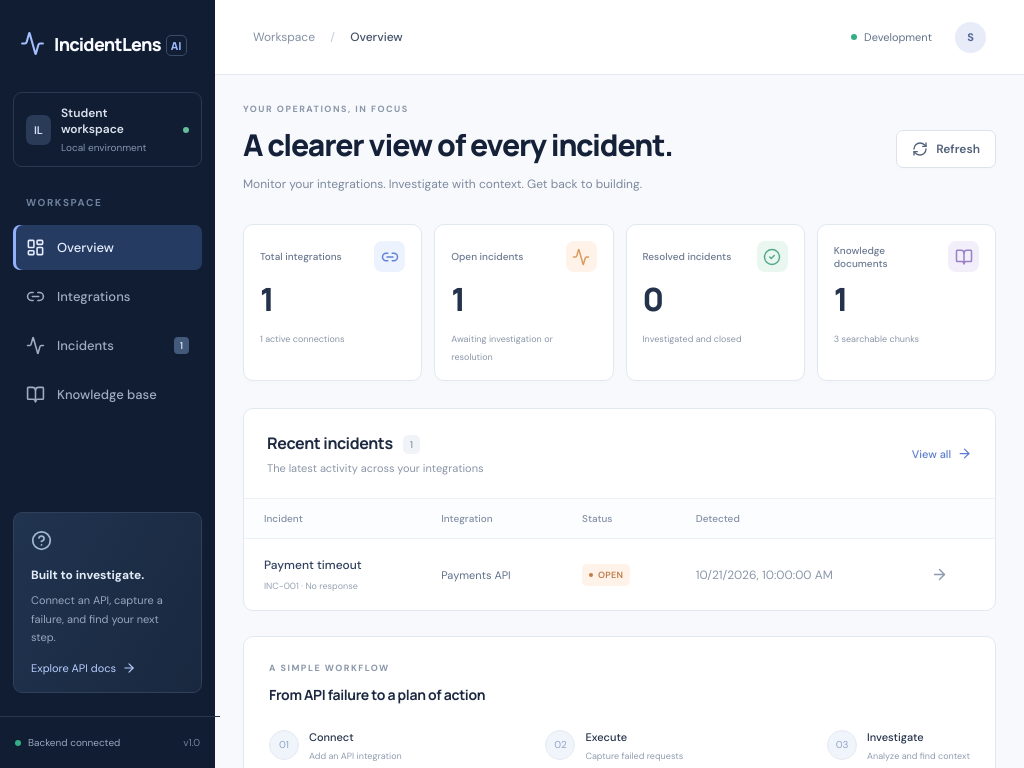
it: workspace › closes dialogs with Escape and restores focus
expect the text "Backend connected" is shown: met, box [28, 736, 120, 749]
Click the button "Integrations": click(108, 296) [13, 274, 202, 319]
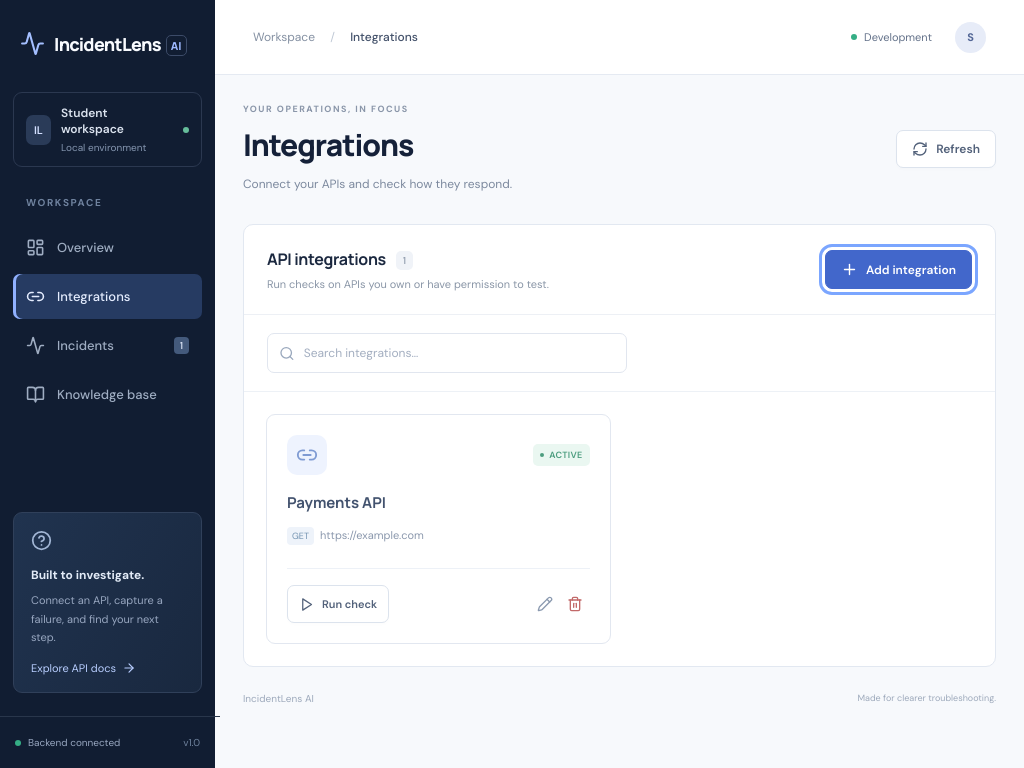
Click the button "Add integration": click(898, 270) [825, 250, 972, 289]
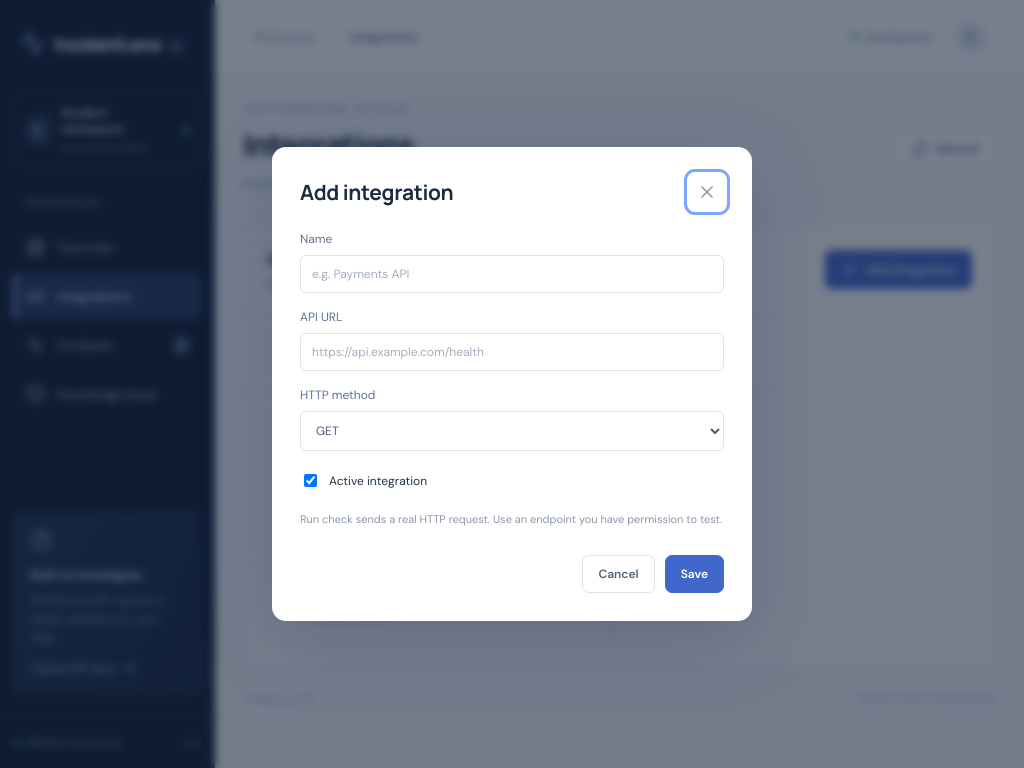
expect the dialog is shown: met, box [272, 147, 752, 621]
Press Escape
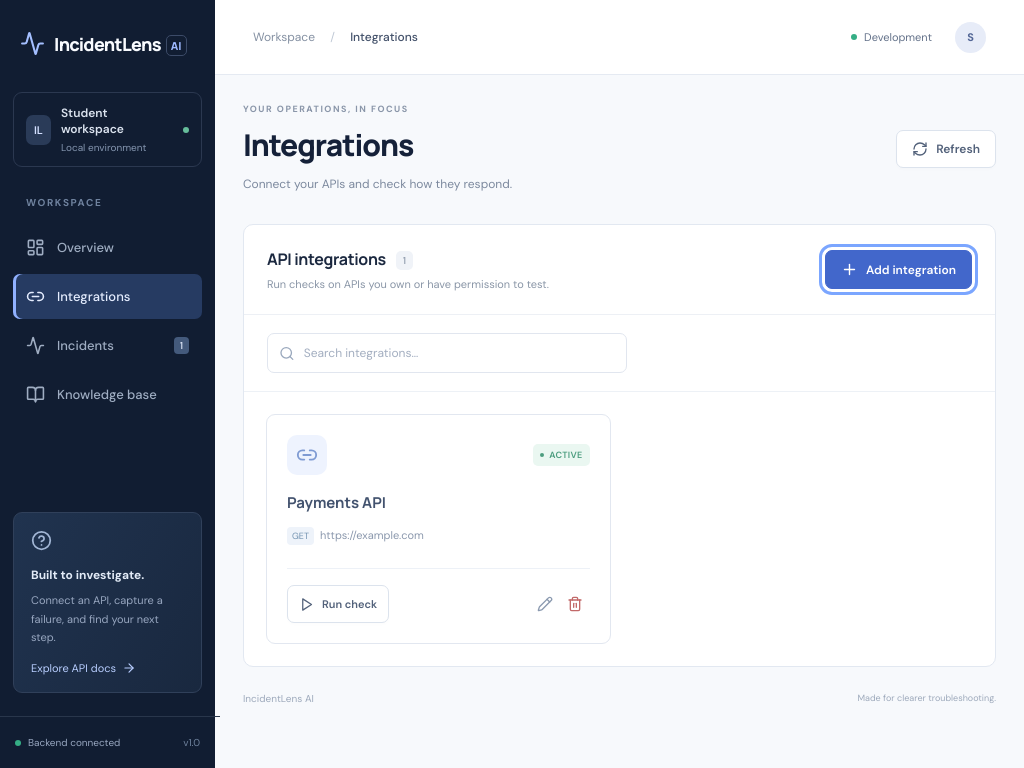
expect the dialog is gone: met
